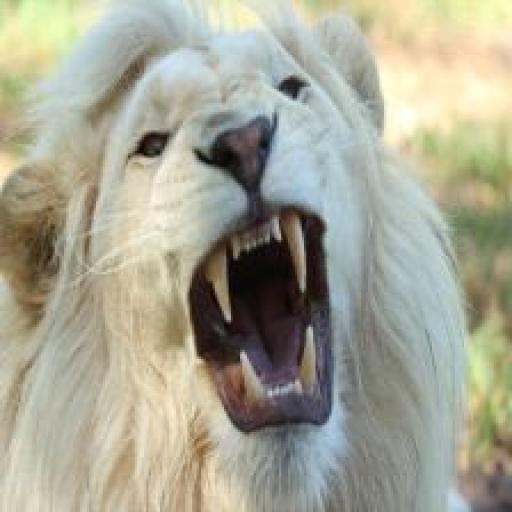lion: (0, 4, 466, 510)
